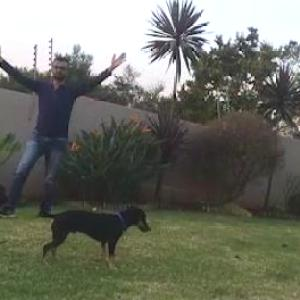takeoff: (0, 57, 118, 194)
